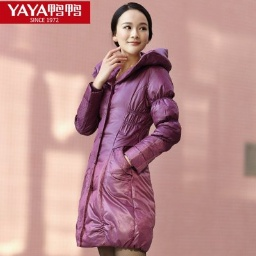face: (104, 1, 158, 58)
